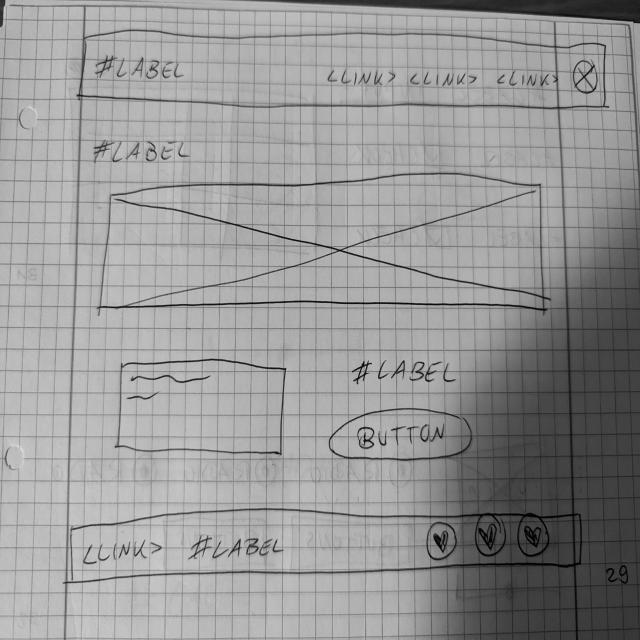button: (327, 406, 475, 466)
container: (77, 24, 609, 112), (66, 506, 586, 588)
icon-button: (473, 512, 509, 560), (422, 519, 460, 563), (514, 513, 550, 558)
image: (97, 168, 549, 314), (570, 56, 600, 95)
label: (348, 356, 460, 388), (91, 50, 187, 86), (91, 134, 191, 168), (185, 530, 285, 564)
link: (82, 536, 164, 569), (406, 67, 479, 91), (327, 64, 398, 88), (493, 67, 560, 90)
textarea: (115, 356, 288, 459)
